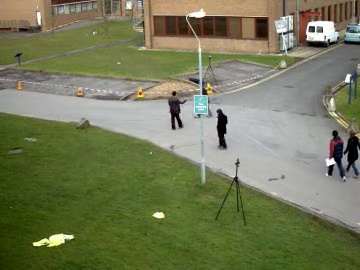person: (213, 108, 230, 151), (167, 92, 183, 130), (213, 108, 227, 146)
